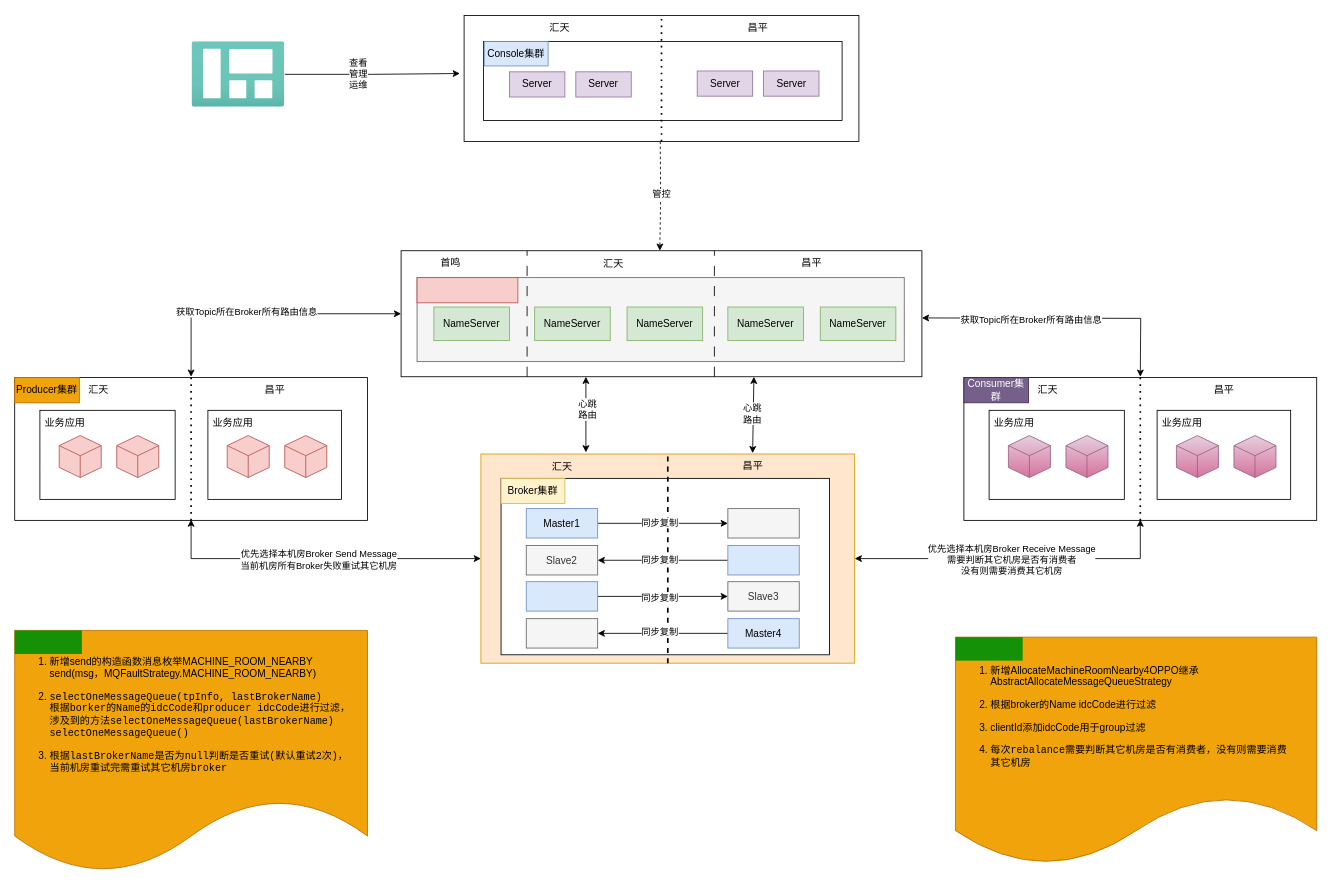
The diagram is 1331 pixels wide and 887 high, and some of its shapes have lost their labels. Each missing label, with the centre of its shape:
Consumer改动: (988,648)
Dashboard: (238,74)
Master2: (763,560)
Master3: (561,596)
NameServer Cluster: (467,290)
Producer改动: (47,642)
Slave1: (763,523)
Slave4: (561,633)
